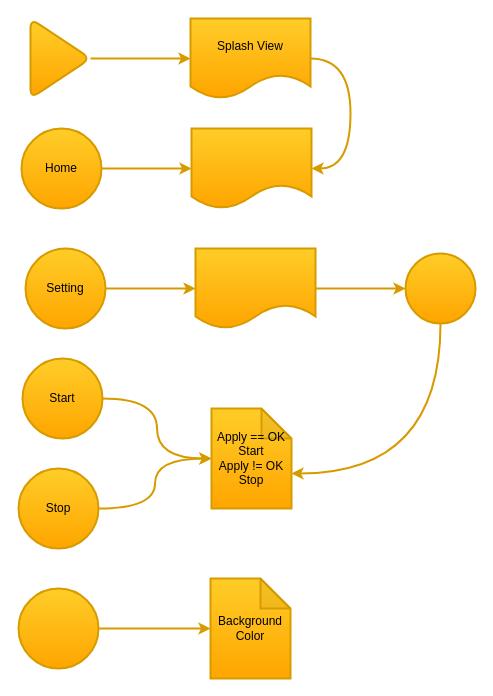
This 493x696 diagram has some shape labels left out. Here are the shapes that lost their labels. From the top down, the centre of each, then its label:
At (x=251, y=168): "Dashboard View".
At (x=255, y=288): "Settings View".
At (x=440, y=288): "Apply".
At (x=58, y=628): "Dark/Light".
